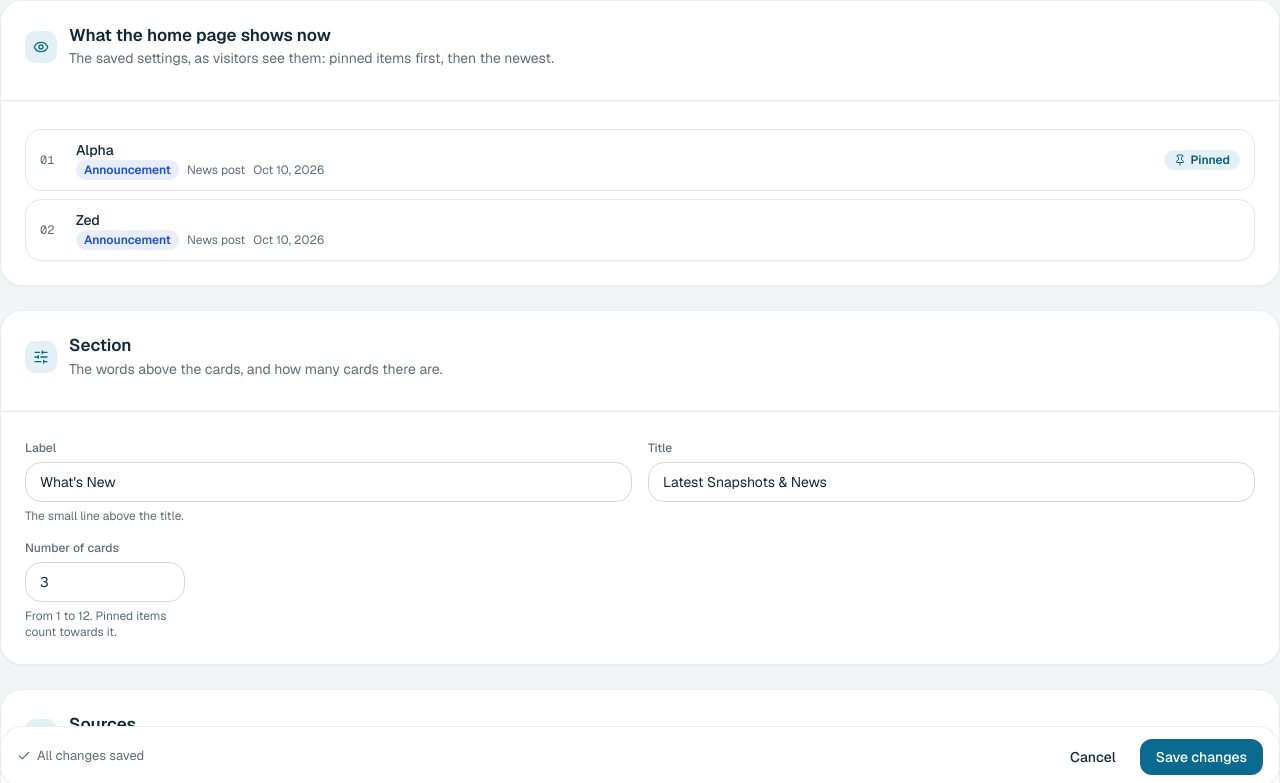
Test: the Latest updates page › refuses a count outside 1 to 12 without sending anything
The image size is (1280, 783).
Replace the text in the number field labelled "Number of cards" with "13" at (105, 582), box x1=25 y1=562 x2=185 y2=602
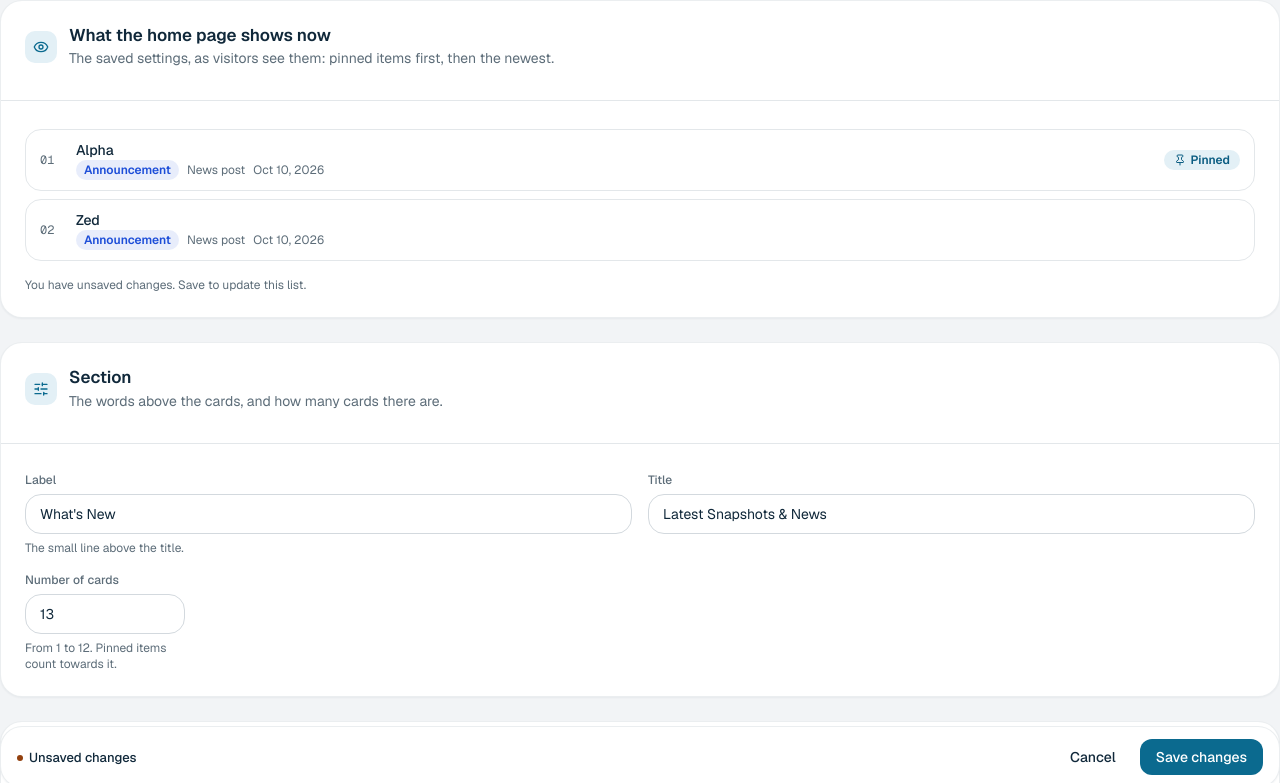
Click the button "Save changes".
click(1201, 757)  # box x1=1140 y1=739 x2=1263 y2=775
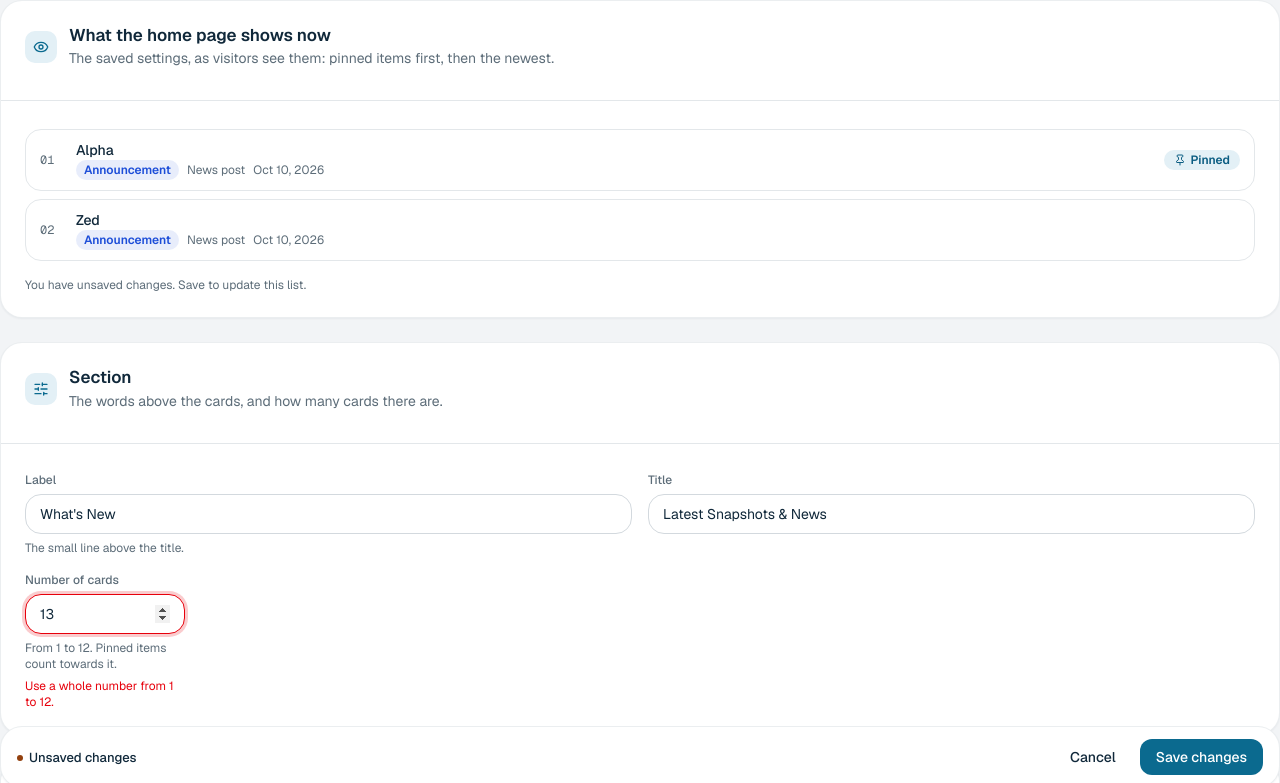
Expected: the text "Use a whole number from 1 to 12." is shown, x1=25 y1=678 x2=185 y2=710
